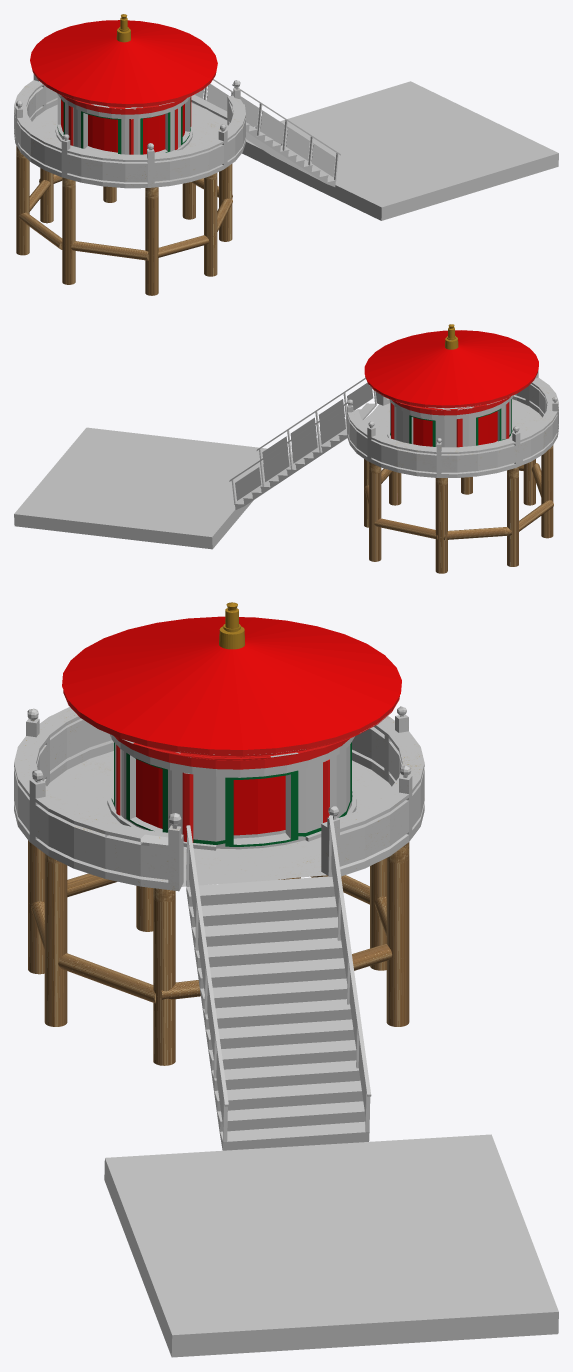
The model's file is chinesetempleblend.fbx.
3 views of the same model, one above another, from view 1: azimuth 30°, elevation 25°; view 2: azimuth 150°, elevation 25°; view 3: azimuth 270°, elevation 25° (orthographic). The views are drawn at different scales.
Parts seen in each view (by area): view 1: Plane, Temple, edge, Cylinder.001, Stair; view 2: Plane, Temple, edge, Cylinder.001, Stair; view 3: Plane, Temple, Stair, edge, Cylinder.001.
Boxes of the visible parts, bbox=[...] form: Plane: bbox=[242, 81, 558, 220]; Temple: bbox=[30, 14, 217, 154]; edge: bbox=[14, 74, 245, 188]; Cylinder.001: bbox=[16, 145, 232, 295]; Stair: bbox=[191, 79, 340, 186]; Plane: bbox=[14, 427, 267, 549]; Temple: bbox=[364, 324, 538, 447]; edge: bbox=[347, 370, 558, 477]; Cylinder.001: bbox=[364, 445, 553, 573]; Stair: bbox=[229, 377, 376, 509]; Plane: bbox=[104, 1134, 558, 1357]; Temple: bbox=[62, 602, 401, 850]; Stair: bbox=[186, 815, 371, 1150]; edge: bbox=[14, 706, 424, 891]; Cylinder.001: bbox=[28, 840, 409, 1065].
Bounding box in the file's own units: 12094 × 5481 × 6535.
